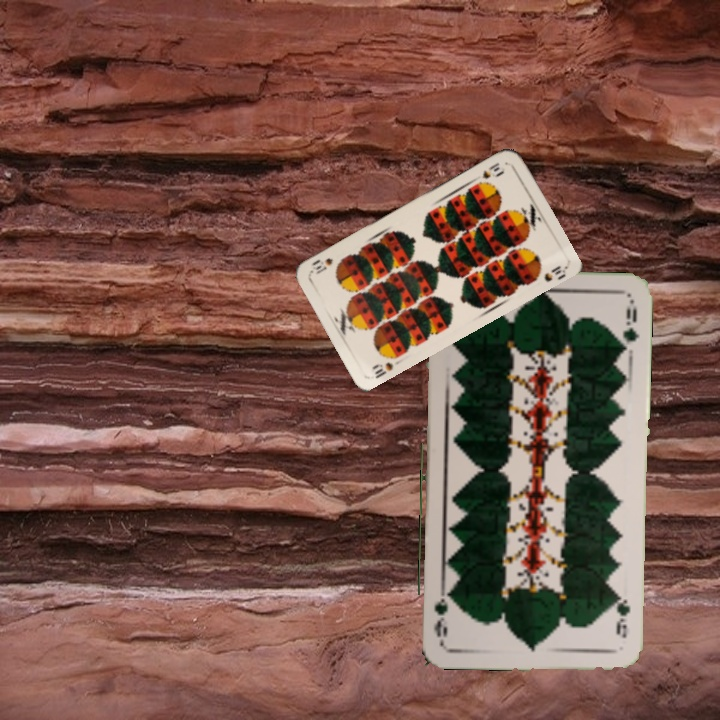G9: (610, 587, 632, 641)
S10: (478, 158, 507, 181), (368, 358, 396, 381)
